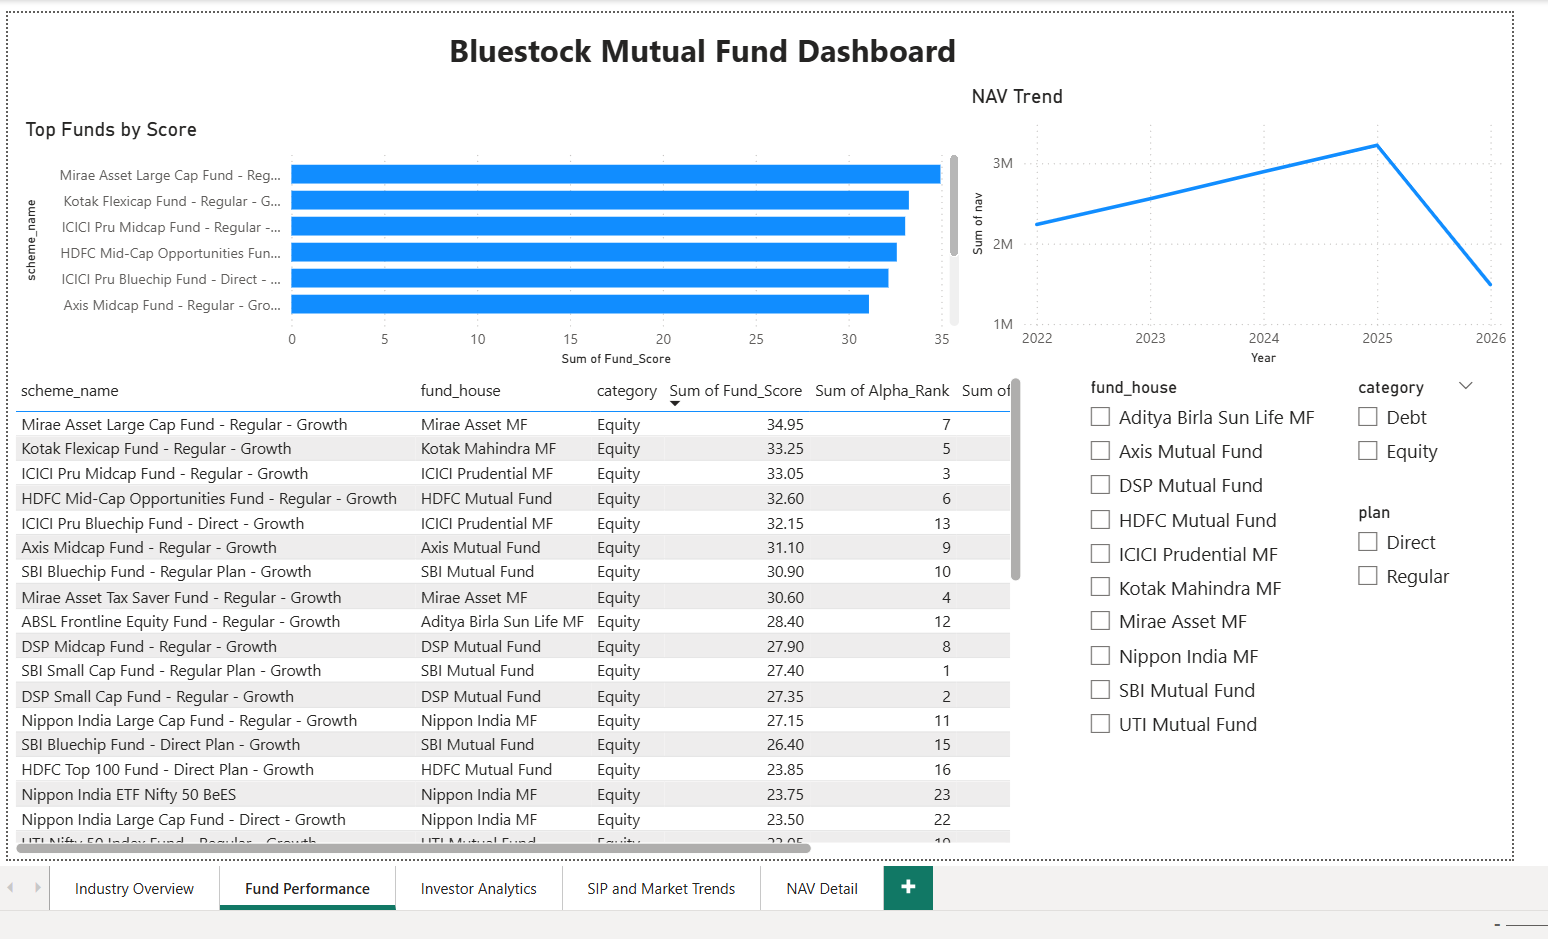

The page's visual inventory and layout, read from the dashboard file:
{"tool":"powerbi","page":{"name":"Fund Performance","canvas":[1280,720],"ordinal":1},"visuals":[{"type":"clusteredBarChart","title":"Top Funds by Score","fields":{"Y":["Sum(fund_scorecard.Fund_Score)"],"Category":["01_fund_master_cleaned.scheme_name"]},"box":[10,88,805,217],"z":0},{"type":"tableEx","fields":{"Values":["01_fund_master_cleaned.scheme_name","01_fund_master_cleaned.fund_house","01_fund_master_cleaned.category","Sum(fund_scorecard.Fund_Score)","Sum(fund_scorecard.Alpha_Rank)","Sum(fund_scorecard.CAGR_Rank)","Sum(fund_scorecard.Sharpe_Rank)"]},"box":[0,305,867,415],"z":1000},{"type":"slicer","fields":{"Values":["01_fund_master_cleaned.fund_house"]},"box":[908.6,304.8,227.5,321.2],"z":2000},{"type":"slicer","fields":{"Values":["01_fund_master_cleaned.category"]},"box":[1136.1,304.8,123.4,107.1],"z":3000},{"type":"slicer","fields":{"Values":["01_fund_master_cleaned.plan"]},"box":[1136.1,411.9,124.9,90.7],"z":4000},{"type":"lineChart","title":"NAV Trend","fields":{"Category":["02_nav_history_cleaned.date.Variation.Date Hierarchy.Year","02_nav_history_cleaned.date.Variation.Date Hierarchy.Quarter","02_nav_history_cleaned.date.Variation.Date Hierarchy.Month","02_nav_history_cleaned.date.Variation.Date Hierarchy.Day"],"Y":["Sum(02_nav_history_cleaned.nav)"]},"box":[815,61,465,244],"z":5000},{"type":"textbox","box":[321,9,540,52],"z":6000}]}

Visuals, with their boxes on the page's 1280x720 design canvas (x1, y1, x2, y2). These are canvas units, not pixel positions in the 1548x939 screenshot, which may show the page scaled, cropped or inside an application window:
"Top Funds by Score" clusteredBarChart: 10/88/815/305
tableEx - 01_fund_master_cleaned.scheme_name x 01_fund_master_cleaned.fund_house: 0/305/867/720
slicer - 01_fund_master_cleaned.fund_house: 909/305/1136/626
slicer - 01_fund_master_cleaned.category: 1136/305/1260/412
slicer - 01_fund_master_cleaned.plan: 1136/412/1261/503
"NAV Trend" lineChart: 815/61/1280/305
textbox: 321/9/861/61
